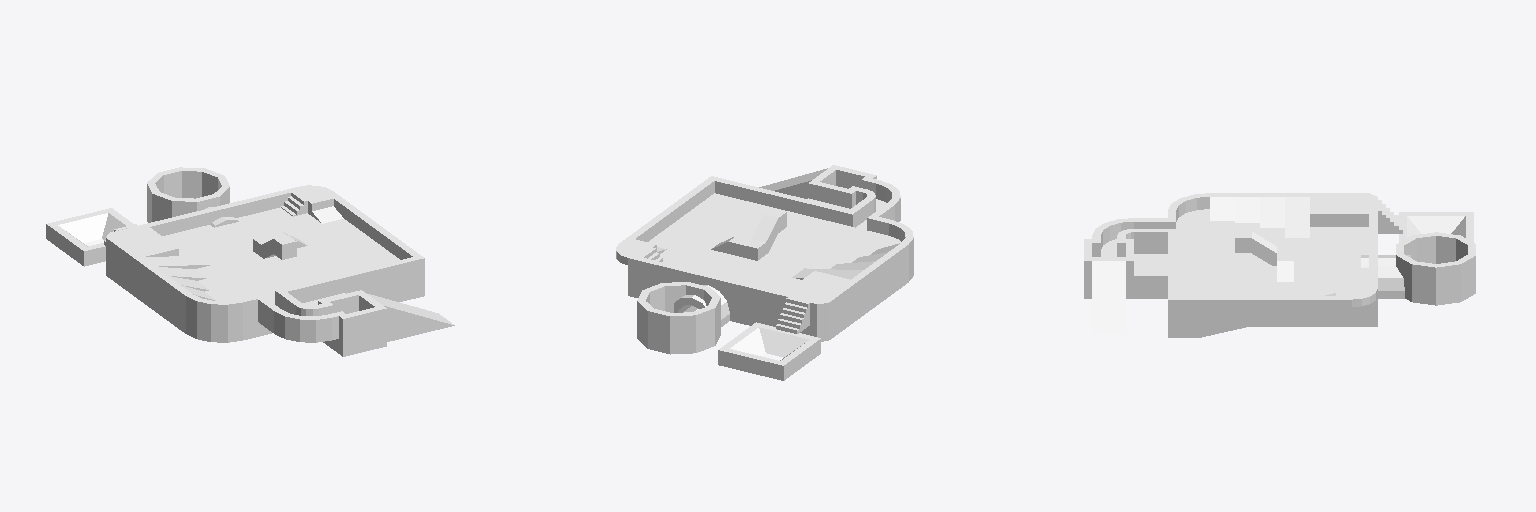
Rendered from Arch.obj.
3 renders of one model, left to right at view 1: azimuth 30°, elevation 25°; view 2: azimuth 150°, elevation 25°; view 3: azimuth 270°, elevation 25°, orthographic.
Parts seen in each view (by area): view 1: Arch, ArchCollider.002_Arch.003, ArchCollider_Arch.001, ArchCollider.003_Arch.004, ArchCollider.001_Arch.002; view 2: Arch, ArchCollider.002_Arch.003, ArchCollider.001_Arch.002, ArchCollider_Arch.001; view 3: Arch, ArchCollider.002_Arch.003, ArchCollider.001_Arch.002, ArchCollider_Arch.001, ArchCollider.003_Arch.004.
Part boxes in pixels (left/top/right/bottom): Arch: left=46, top=167, right=454, bottom=356; ArchCollider.002_Arch.003: left=193, top=219, right=395, bottom=303; ArchCollider_Arch.001: left=175, top=213, right=321, bottom=255; ArchCollider.003_Arch.004: left=163, top=207, right=292, bottom=244; ArchCollider.001_Arch.002: left=218, top=257, right=399, bottom=302; Arch: left=616, top=165, right=913, bottom=380; ArchCollider.002_Arch.003: left=648, top=206, right=877, bottom=281; ArchCollider.001_Arch.002: left=698, top=193, right=901, bottom=248; ArchCollider_Arch.001: left=660, top=249, right=798, bottom=291; Arch: left=1084, top=193, right=1475, bottom=337; ArchCollider.002_Arch.003: left=1210, top=221, right=1314, bottom=295; ArchCollider.001_Arch.002: left=1176, top=209, right=1209, bottom=295; ArchCollider_Arch.001: left=1315, top=227, right=1343, bottom=295; ArchCollider.003_Arch.004: left=1344, top=227, right=1368, bottom=283.
Size of the model in its own units: 31 by 7 by 46.76.